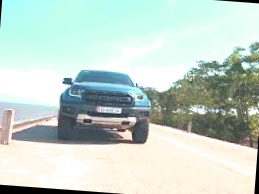Bien-so: (102, 111, 126, 118)
